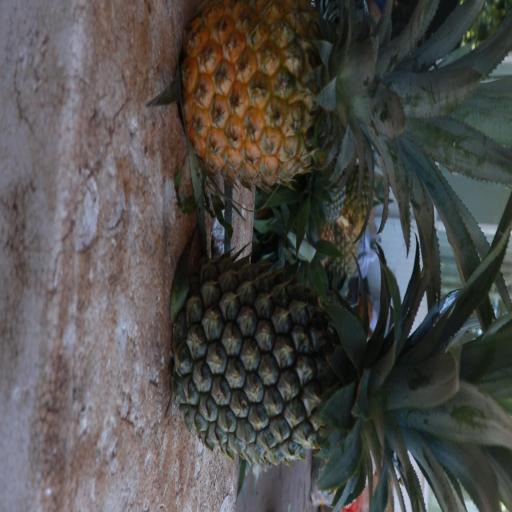Pineapple - v8 v1: (178, 0, 470, 188)
